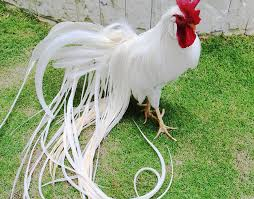Gà/Chicken: (13, 1, 222, 147)
